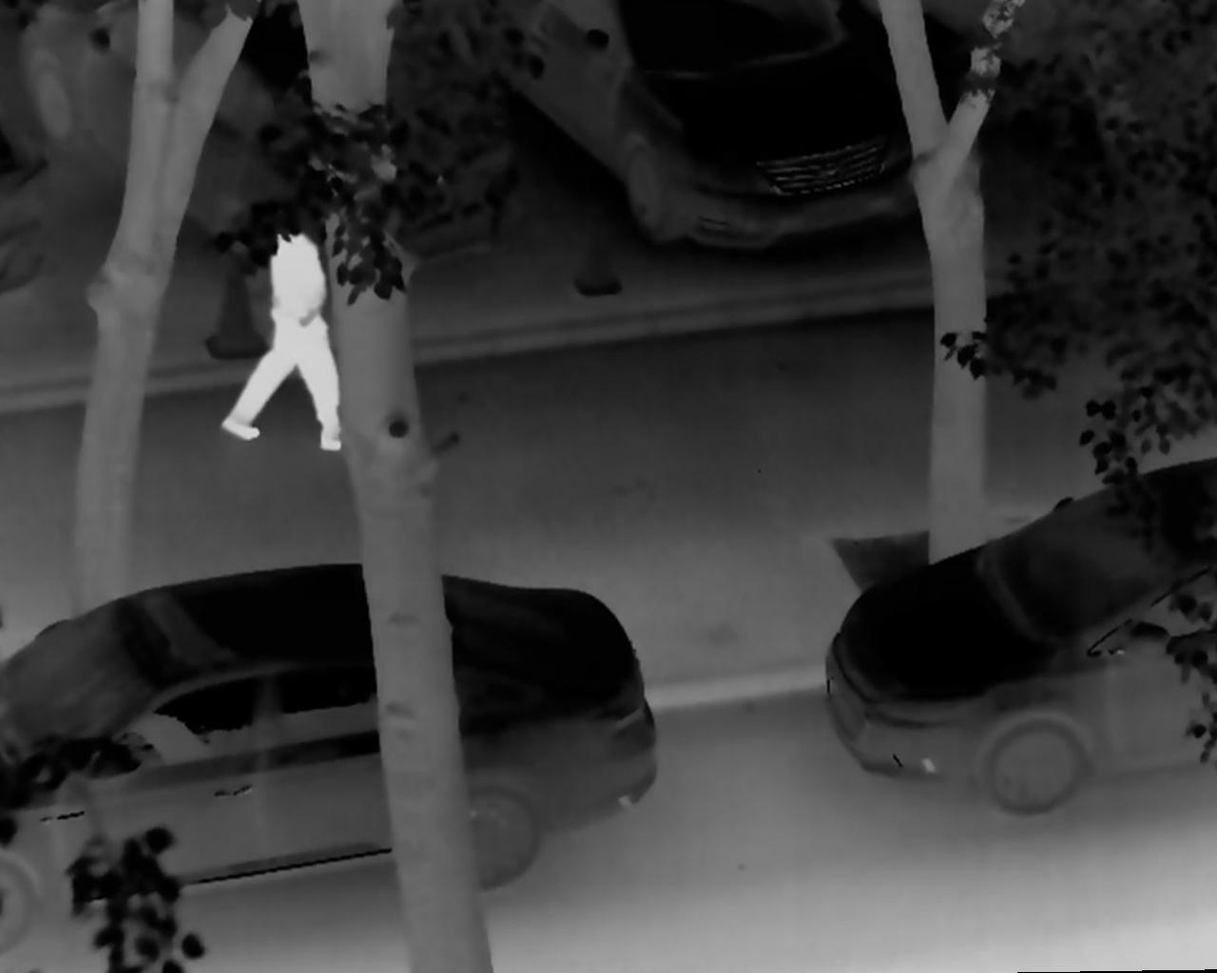person: (217, 212, 358, 456)
